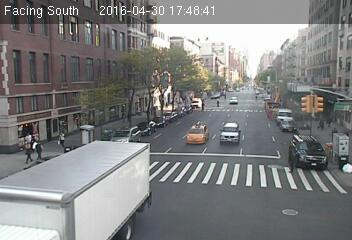neg: (123, 48, 138, 68), (261, 153, 275, 172), (116, 116, 130, 134), (225, 122, 238, 141), (111, 87, 123, 102), (95, 157, 105, 171), (86, 42, 96, 56), (251, 93, 260, 105), (198, 122, 207, 134), (215, 98, 223, 110), (197, 99, 205, 110), (101, 71, 109, 82), (221, 92, 229, 102), (190, 147, 197, 156)
pos: (20, 128, 37, 151), (30, 139, 46, 161), (327, 126, 343, 147), (324, 110, 339, 130), (21, 145, 35, 164), (314, 117, 328, 135), (57, 129, 67, 142), (163, 99, 170, 108)
